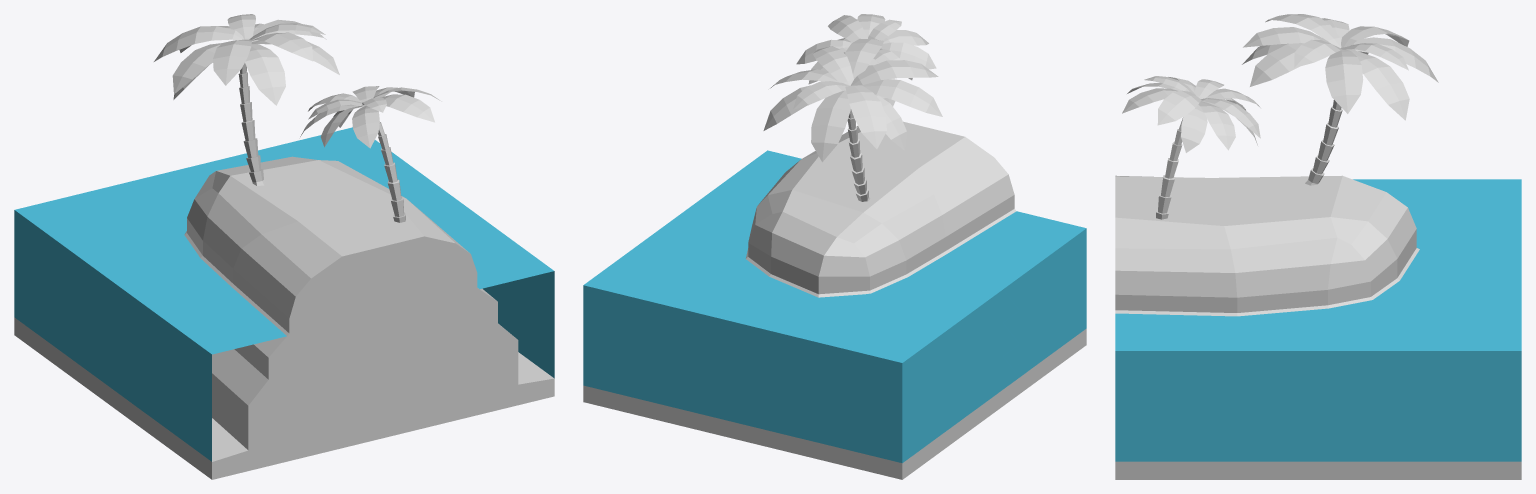
The picture shows the model from 3 angles, left to right: view 1: azimuth 30°, elevation 25°; view 2: azimuth 150°, elevation 25°; view 3: azimuth 270°, elevation 25°; orthographic projection. The views are drawn at different scales.
Parts seen in each view (by area): view 1: Island.003; view 2: Island.003; view 3: Island.003.
Part boxes in pixels (x1,y1,x2,y2): Island.003: [14, 14, 554, 479]; Island.003: [583, 14, 1086, 479]; Island.003: [1115, 14, 1521, 479].
Size of the model in its own units: 200 by 192 by 200.
